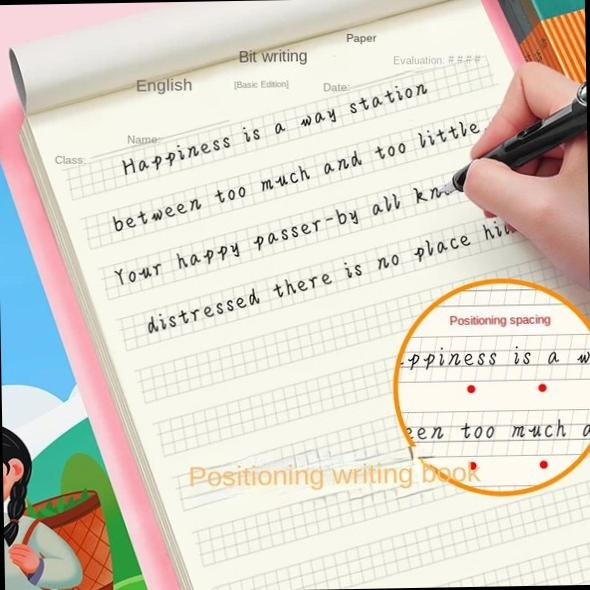text: (107, 118, 486, 235), (143, 220, 512, 337), (110, 182, 446, 290), (117, 80, 432, 178), (186, 461, 484, 496), (403, 417, 590, 446), (398, 351, 590, 375), (449, 314, 554, 332), (237, 46, 309, 68), (134, 74, 194, 97), (232, 77, 290, 93), (391, 53, 446, 68), (124, 132, 162, 148), (53, 153, 89, 167), (344, 32, 380, 45), (321, 81, 350, 94)
